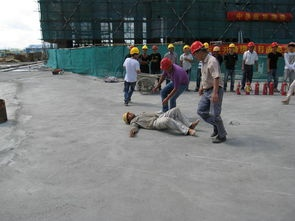10+: (115, 37, 295, 145)
down: (120, 104, 199, 143)
